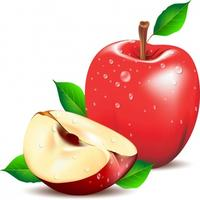apple: (80, 22, 200, 169), (22, 108, 141, 193)
